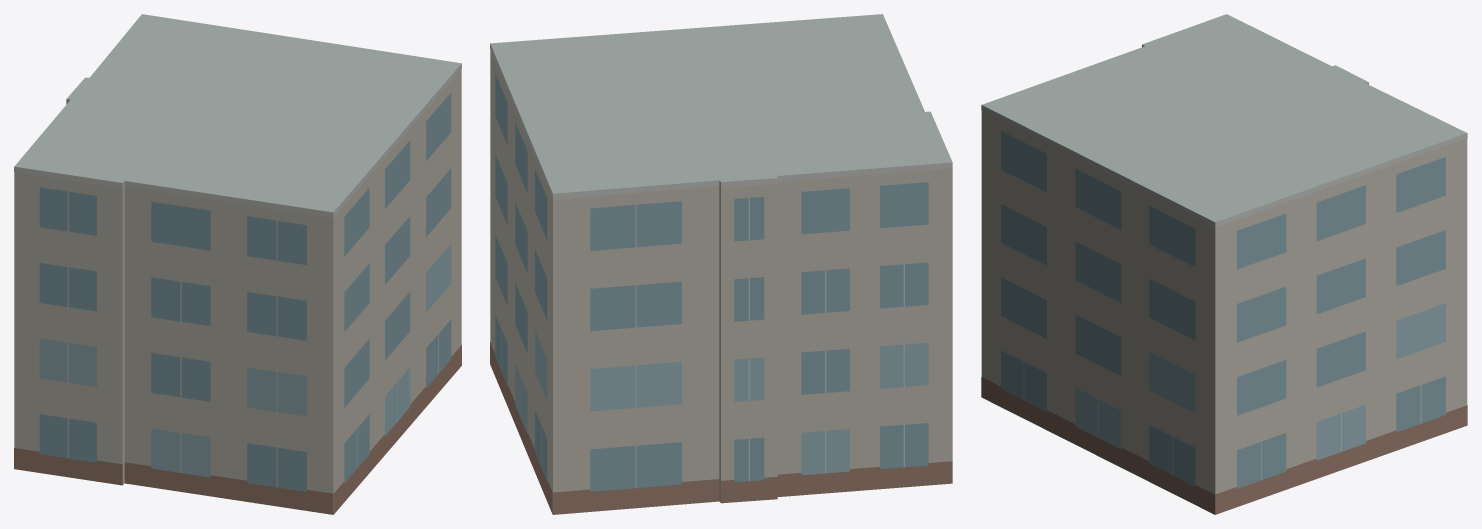
The model's file is survey-upis-32774236.glb.
The picture shows the model from 3 angles, left to right: view 1: azimuth 30°, elevation 25°; view 2: azimuth 150°, elevation 25°; view 3: azimuth 270°, elevation 25°; orthographic projection. The views are drawn at different scales.
Visible parts, largest first — view 1: survey-upis-32774236.tmp; view 2: survey-upis-32774236.tmp; view 3: survey-upis-32774236.tmp.
Part boxes in pixels (x1,y1,x2,y2): survey-upis-32774236.tmp: (14,14,461,514); survey-upis-32774236.tmp: (490,14,952,514); survey-upis-32774236.tmp: (981,14,1467,514).
Bounding box in the file's own units: 20.48 × 13.4 × 20.18.
